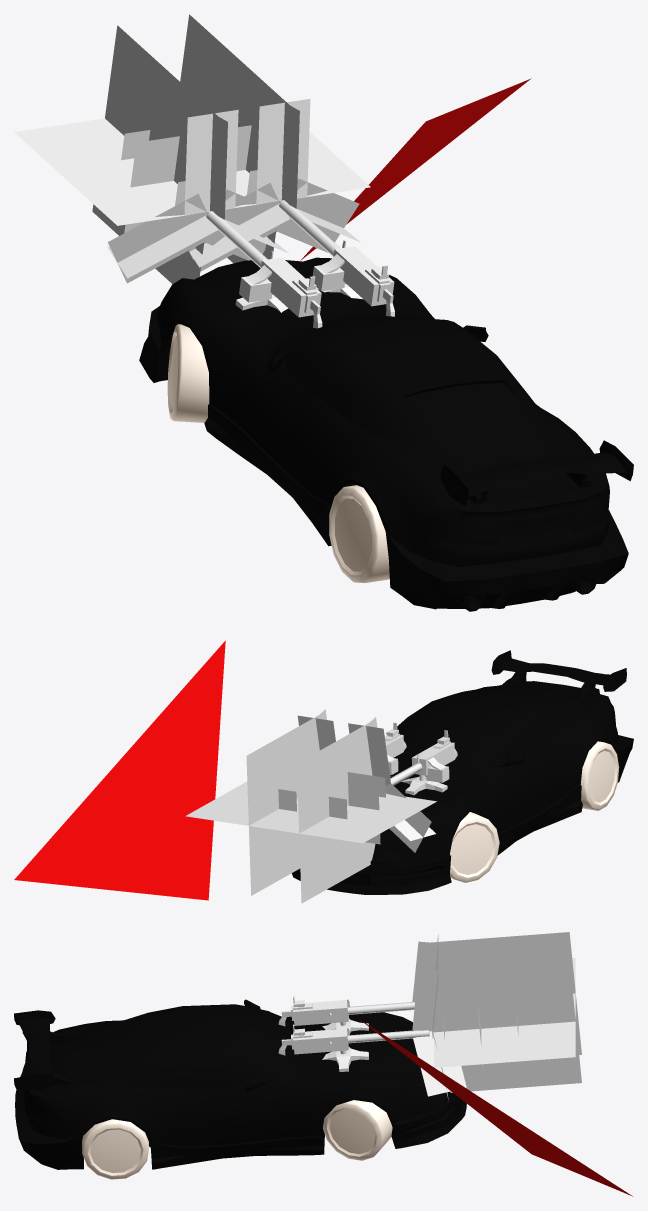
File: Car.fbx
3 views of the same model, one above another, from view 1: azimuth 30°, elevation 25°; view 2: azimuth 150°, elevation 25°; view 3: azimuth 270°, elevation 25° (orthographic). The views are drawn at different scales.
Parts seen in each view (by area): view 1: Car, MuzzleFlashes, DualMachineGun, BackWheels, Dummy Animation Node Car_Camera, BackWheels_layer1; view 2: Car, Dummy Animation Node Car_Camera, MuzzleFlashes, DualMachineGun, BackWheels_layer1, BackWheels; view 3: Car, MuzzleFlashes, DualMachineGun, Dummy Animation Node Car_Camera, BackWheels, BackWheels_layer1.
Part boxes in pixels (box(x1,y1,x2,y2)): Car: box(139, 257, 633, 611); MuzzleFlashes: box(14, 14, 370, 283); DualMachineGun: box(206, 200, 394, 328); BackWheels: box(167, 324, 389, 582); Dummy Animation Node Car_Camera: box(300, 78, 531, 260); BackWheels_layer1: box(170, 336, 371, 571); Car: box(292, 650, 633, 894); Dummy Animation Node Car_Camera: box(14, 640, 225, 900); MuzzleFlashes: box(185, 709, 436, 903); DualMachineGun: box(384, 722, 457, 795); BackWheels_layer1: box(450, 750, 615, 874); BackWheels: box(450, 741, 619, 882); Car: box(14, 999, 466, 1169); MuzzleFlashes: box(412, 932, 581, 1099); DualMachineGun: box(278, 996, 429, 1071); Dummy Animation Node Car_Camera: box(359, 1019, 632, 1196); BackWheels: box(82, 1100, 392, 1179); BackWheels_layer1: box(90, 1109, 375, 1172).
Size of the model in its own units: 387 by 653 by 240.
